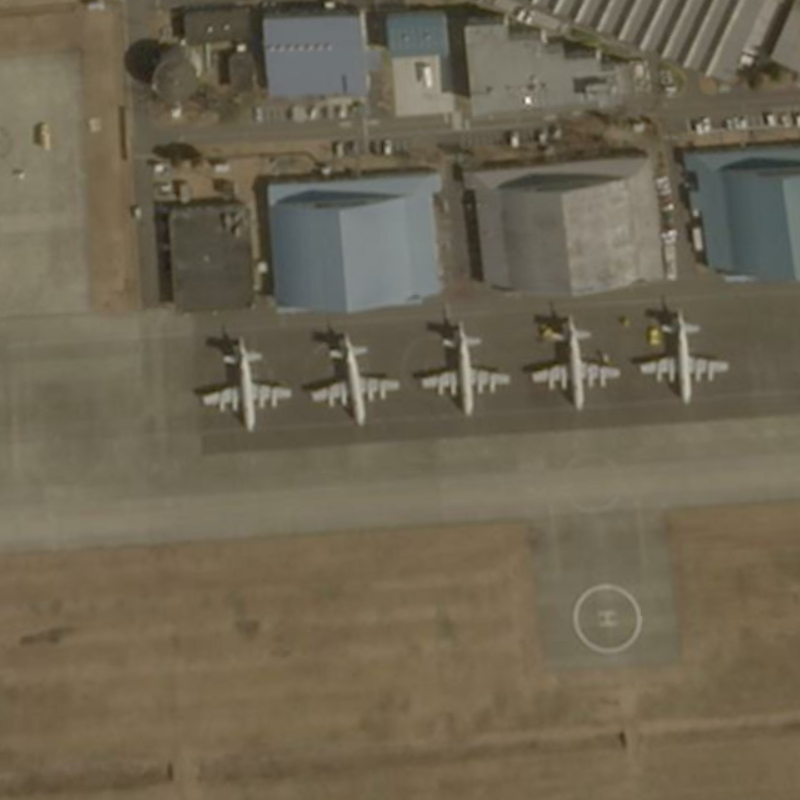A9: (197, 329, 298, 437), (413, 311, 514, 418), (303, 328, 404, 430), (634, 301, 737, 401), (527, 308, 626, 411)
